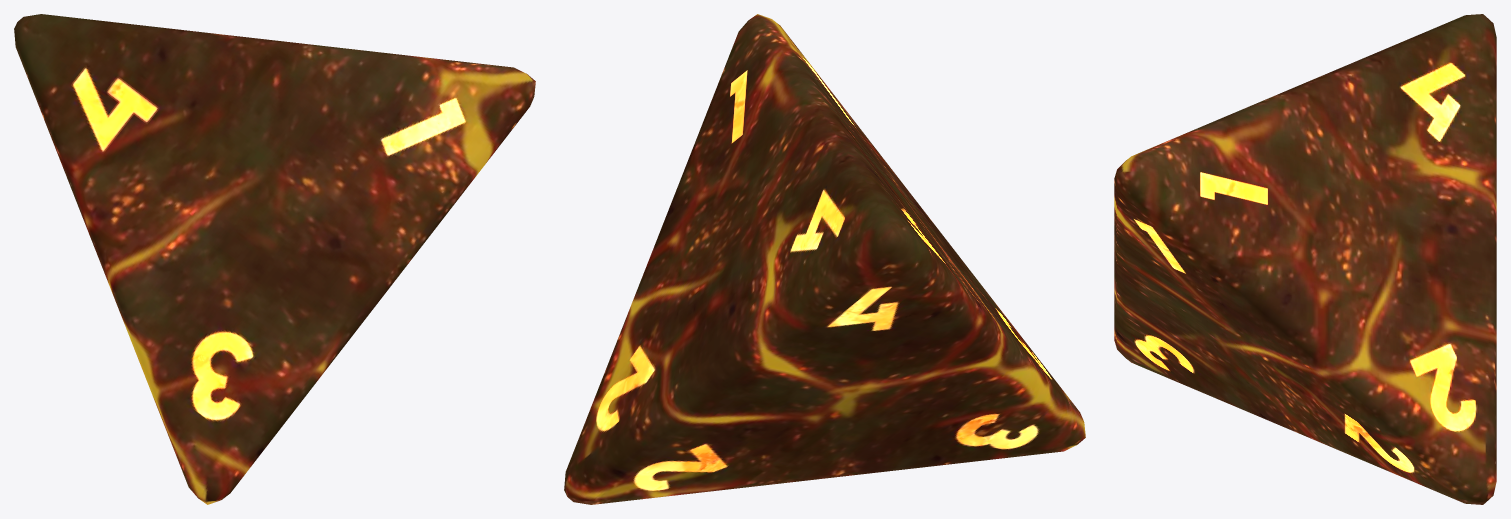
Rendered from magma20_d4.gltf.
3 renders of one model, left to right at view 1: azimuth 30°, elevation 25°; view 2: azimuth 150°, elevation 25°; view 3: azimuth 270°, elevation 25°, orthographic. The views are drawn at different scales.
Parts seen in each view (by area): view 1: dice_4; view 2: dice_4; view 3: dice_4.
Boxes of the visible parts, bbox=[...] form: dice_4: bbox=[14, 14, 535, 504]; dice_4: bbox=[564, 14, 1085, 504]; dice_4: bbox=[1114, 14, 1496, 504].
Size of the model in its own units: 128 by 128 by 128.
1 material, 1 textured.
